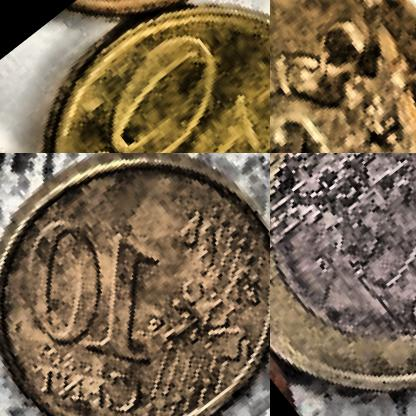coin: (0, 153, 269, 415), (0, 0, 269, 152), (270, 153, 415, 415), (270, 0, 415, 152)
